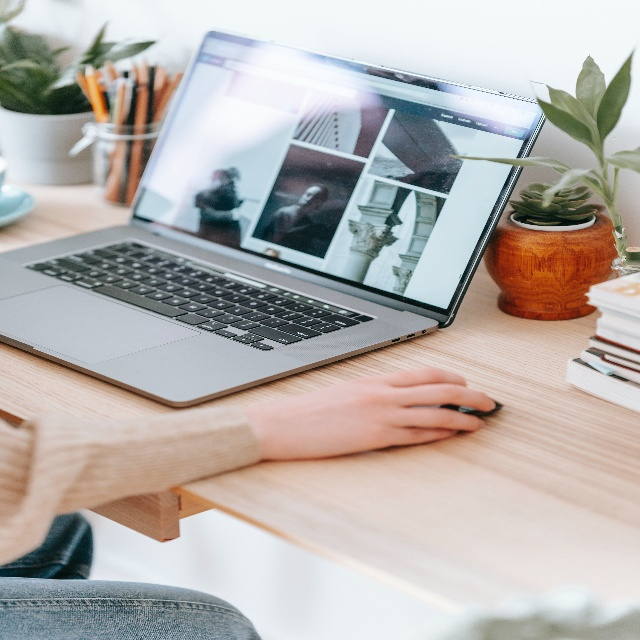Sin_guantes: (259, 365, 495, 461)
